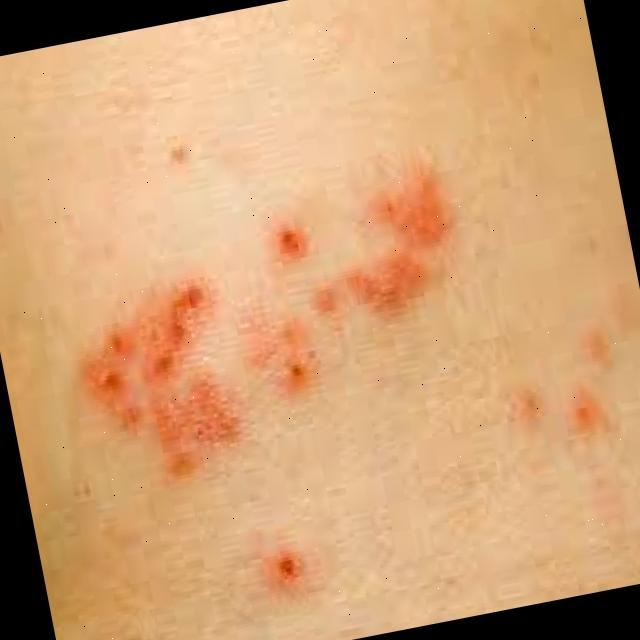Shingles: (265, 160, 451, 395), (75, 278, 238, 470), (508, 331, 614, 436), (267, 542, 314, 590)
